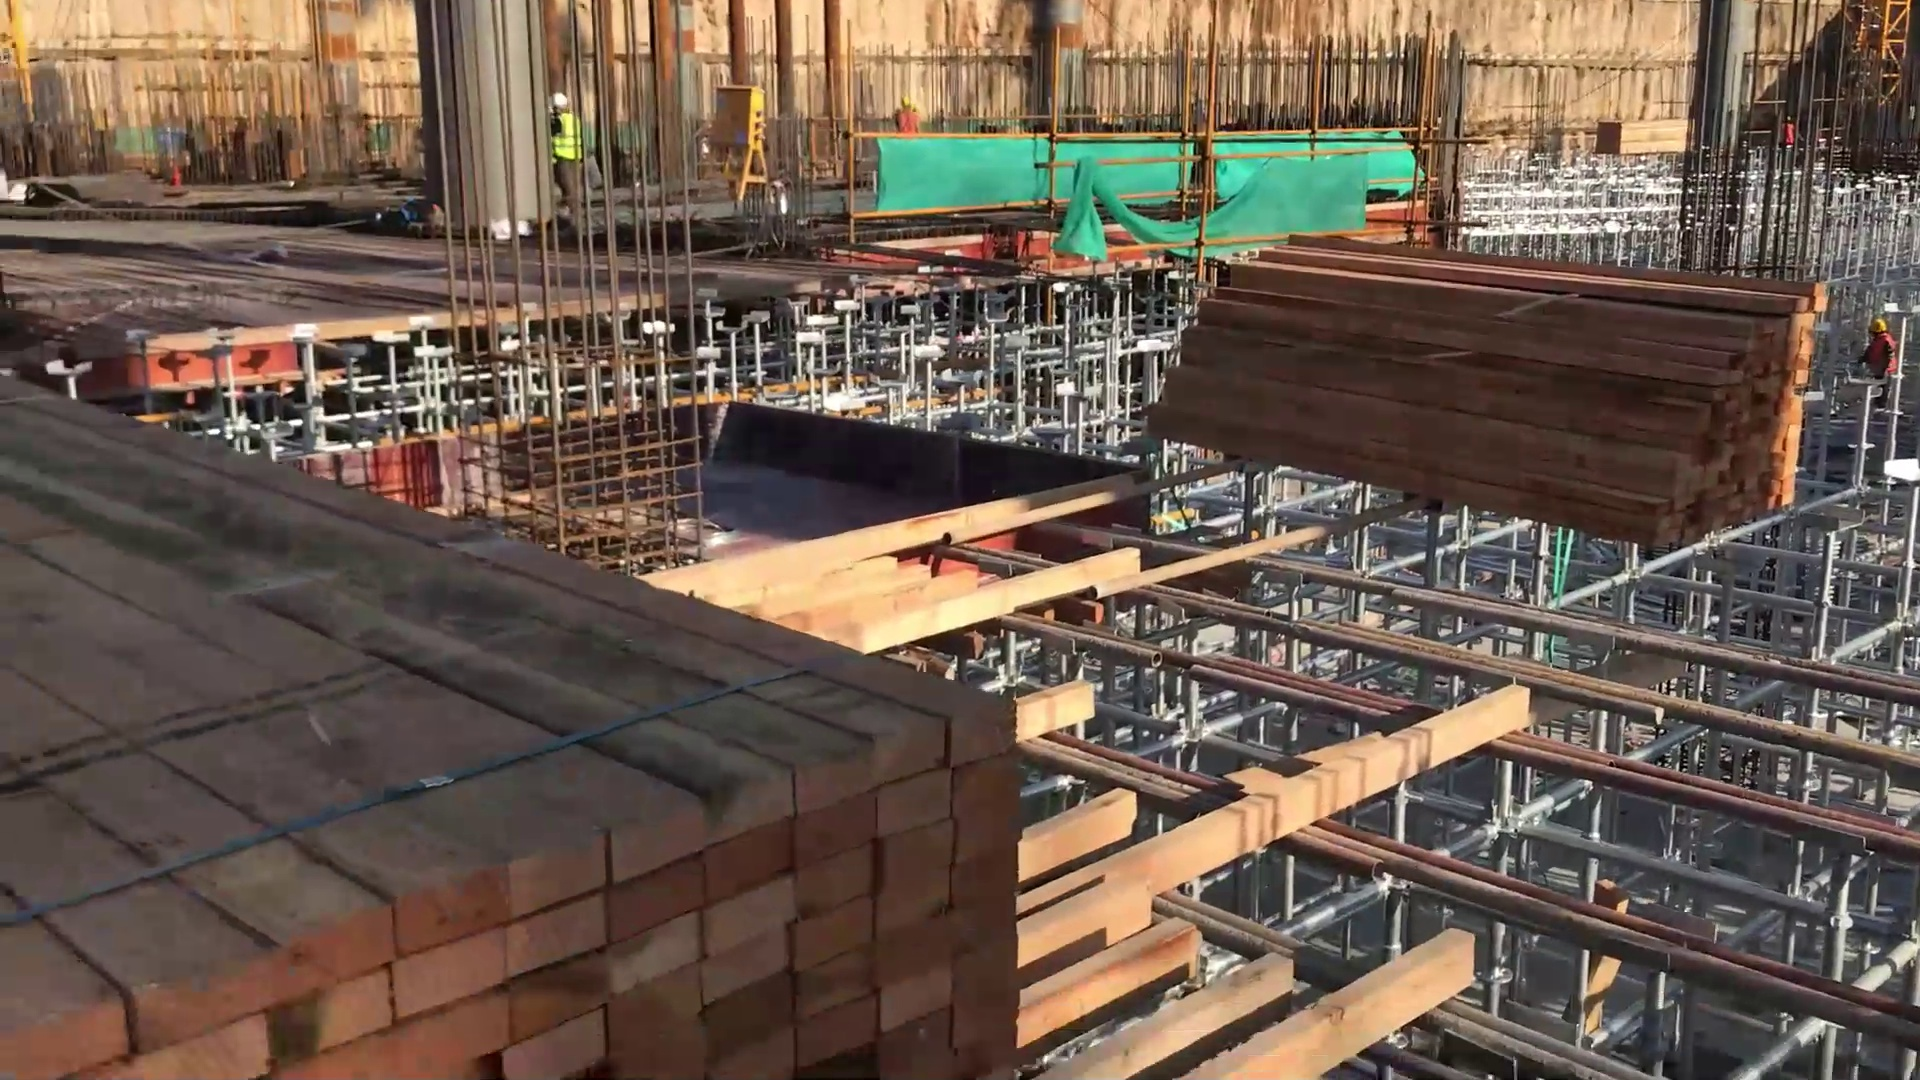ebox: (702, 73, 783, 195)
helmet: (546, 91, 570, 108)
vest: (543, 105, 582, 164)
wood: (9, 349, 1069, 1080), (1129, 199, 1846, 547)
